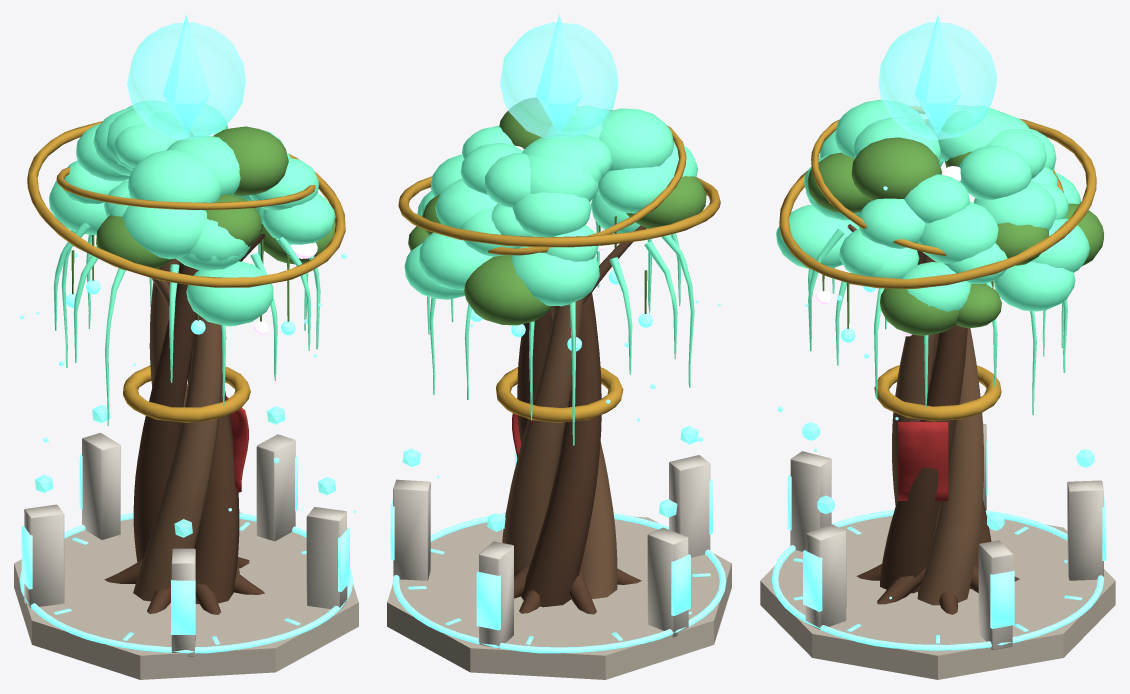
Rendered from protecteur.glb.
The picture shows the model from 3 angles, left to right: view 1: azimuth 30°, elevation 25°; view 2: azimuth 150°, elevation 25°; view 3: azimuth 270°, elevation 25°; orthographic projection.
Visible parts, largest first — view 1: leafglow, marble2, marble, bark, bark2, ether_veil, gold, ether, leaf, ether_soft, team, bloom_pink; view 2: leafglow, marble2, bark, marble, bark2, ether_veil, ether, gold, leaf, ether_soft; view 3: leafglow, marble2, leaf, marble, bark2, ether_veil, ether, gold, bark, team, ether_soft.
Boxes of the visible parts, <box> form: leafglow: <box>49,100,335,425</box>; marble2: <box>14,512,358,679</box>; marble: <box>24,433,347,656</box>; bark: <box>104,261,264,614</box>; bark2: <box>133,233,265,601</box>; ether_veil: <box>127,22,245,139</box>; gold: <box>27,121,345,422</box>; ether: <box>19,14,356,653</box>; leaf: <box>71,126,335,321</box>; ether_soft: <box>35,404,336,537</box>; team: <box>226,396,248,492</box>; bloom_pink: <box>209,134,317,335</box>; leafglow: <box>404,106,697,445</box>; marble2: <box>387,512,731,679</box>; bark: <box>514,293,641,614</box>; marble: <box>393,455,710,648</box>; bark2: <box>502,225,646,598</box>; ether_veil: <box>500,22,618,138</box>; ether: <box>390,14,726,653</box>; gold: <box>398,109,720,422</box>; leaf: <box>408,97,706,325</box>; ether_soft: <box>402,426,698,531</box>; leafglow: <box>776,99,1089,415</box>; marble2: <box>760,516,1115,679</box>; leaf: <box>807,137,1103,335</box>; marble: <box>790,423,1103,650</box>; bark2: <box>847,224,983,605</box>; ether_veil: <box>878,22,997,140</box>; ether: <box>771,15,1106,650</box>; gold: <box>779,106,1096,421</box>; bark: <box>856,250,1019,614</box>; team: <box>898,421,948,500</box>; ether_soft: <box>802,422,1094,530</box>.
Bounding box in the file's own units: 2.05 × 3.74 × 2.04.
